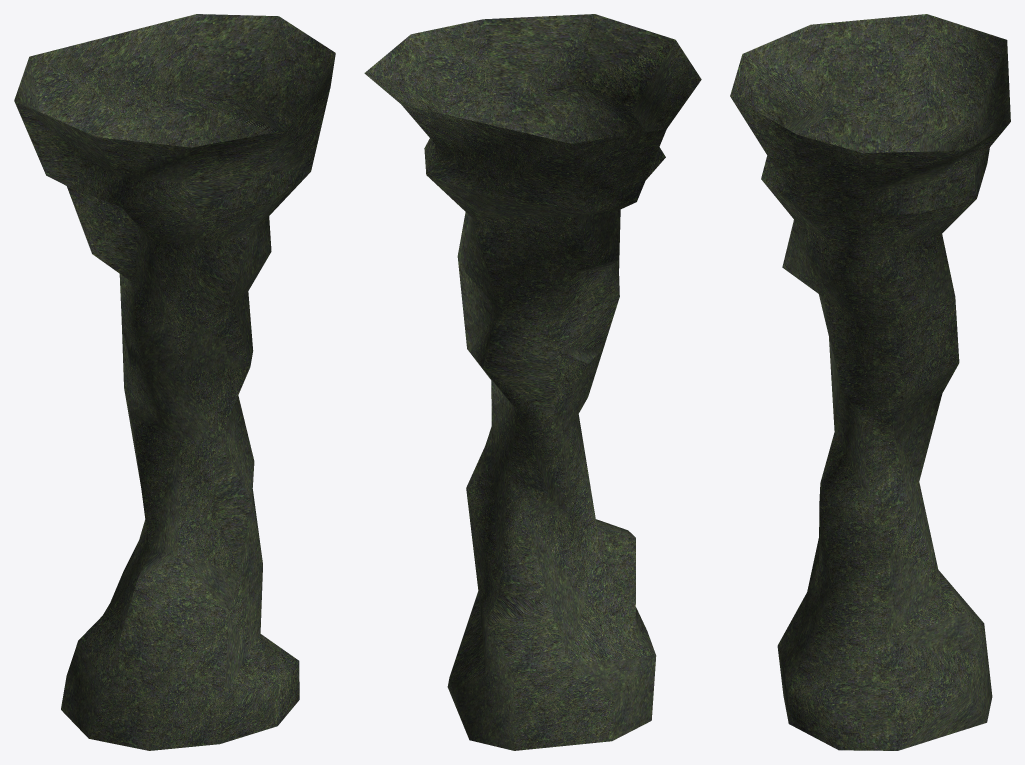
The model's file is rock_pillar_06_lod_01.fbx.
The picture shows the model from 3 angles, left to right: view 1: azimuth 30°, elevation 25°; view 2: azimuth 150°, elevation 25°; view 3: azimuth 270°, elevation 25°; orthographic projection.
Parts seen in each view (by area): view 1: rock_pillar_06_LOD_01; view 2: rock_pillar_06_LOD_01; view 3: rock_pillar_06_LOD_01.
Part boxes in pixels (<box>): rock_pillar_06_LOD_01: <box>14,14,335,750</box>; rock_pillar_06_LOD_01: <box>364,14,701,750</box>; rock_pillar_06_LOD_01: <box>730,14,1010,750</box>.
Bounding box in the file's own units: 47.06 × 98.51 × 39.91.
